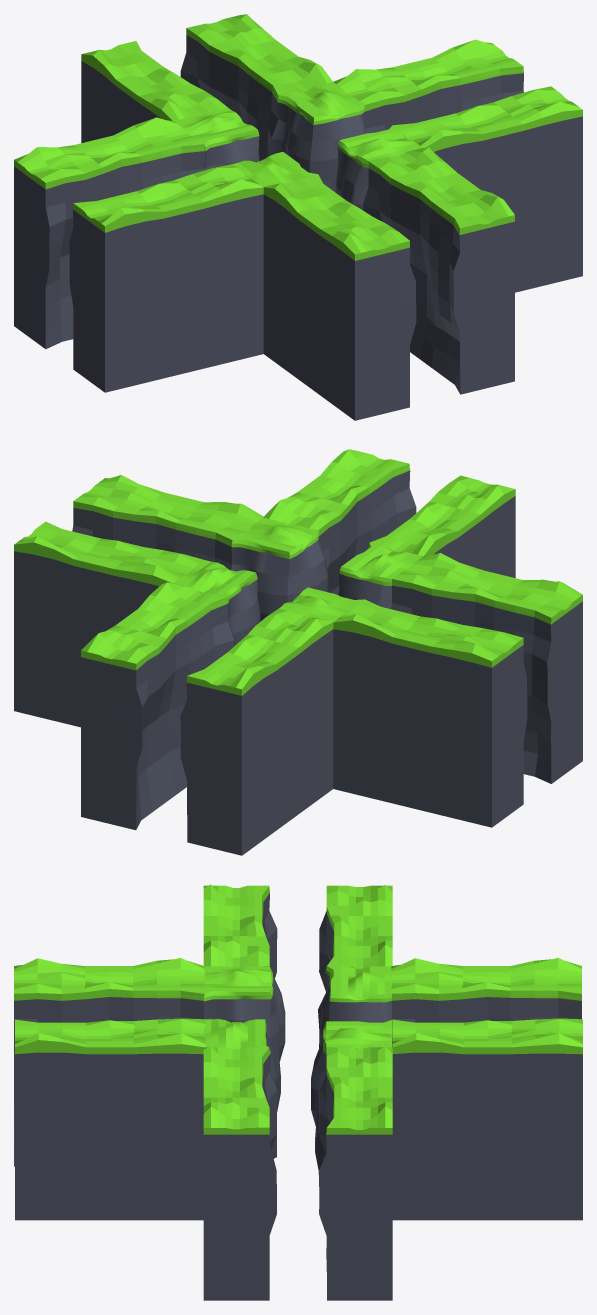
File: BlockSet4.dae
3 views of the same model, one above another, from view 1: azimuth 30°, elevation 25°; view 2: azimuth 150°, elevation 25°; view 3: azimuth 270°, elevation 25° (orthographic). The views are drawn at different scales.
Parts seen in each view (by area): view 1: BlockSet4Fin; view 2: BlockSet4Fin; view 3: BlockSet4Fin.
Part boxes in pixels (left/top/right/bottom): BlockSet4Fin: left=14, top=14, right=582, bottom=420; BlockSet4Fin: left=14, top=449, right=582, bottom=855; BlockSet4Fin: left=14, top=884, right=582, bottom=1300.
Size of the model in its own units: 467 by 166 by 464.
